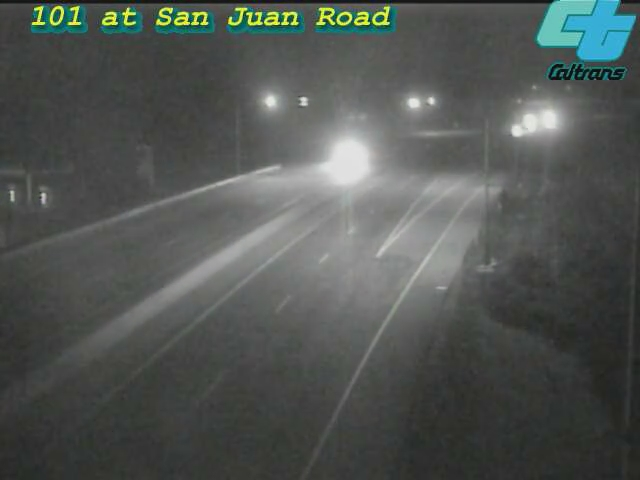vehicle: (328, 132, 378, 182), (488, 107, 538, 157), (507, 96, 557, 146), (522, 94, 572, 144)
